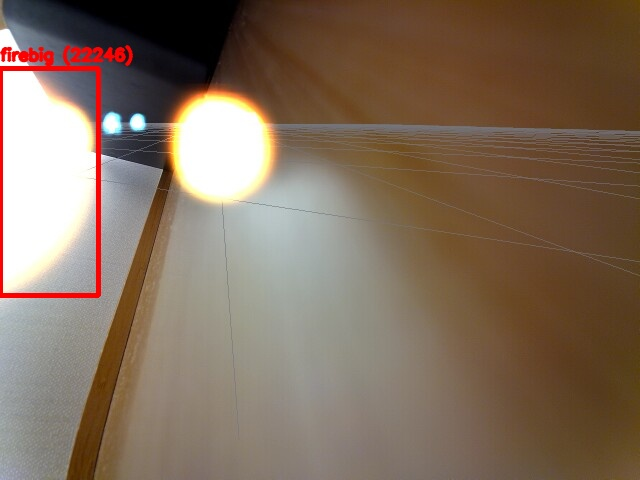firebig: (0, 68, 98, 295)
